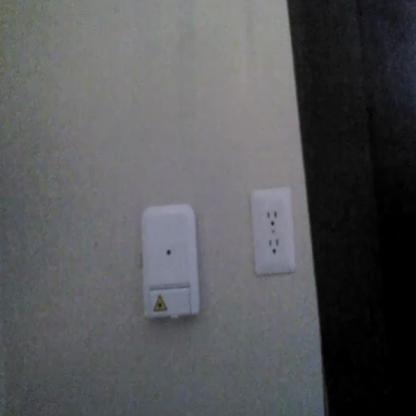OUTLET: (252, 187, 295, 275)
